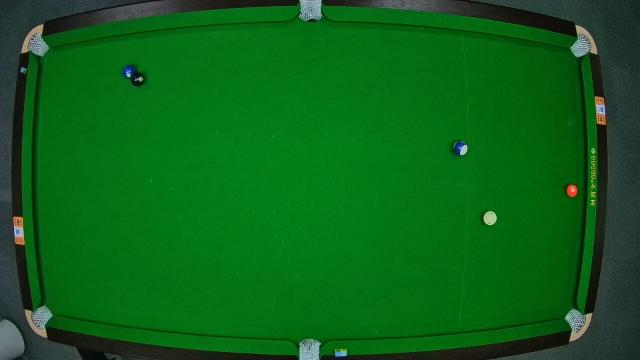bag1: (28, 34, 44, 54)
bag2: (300, 1, 322, 23)
bag3: (573, 36, 591, 56)
bag4: (30, 306, 51, 326)
bag5: (298, 338, 320, 360)
bag6: (566, 310, 584, 332)
ball0: (484, 211, 498, 227)
ball10: (452, 140, 468, 158)
ball2: (122, 63, 138, 79)
ball5: (566, 184, 578, 198)
ball8: (132, 72, 146, 86)
